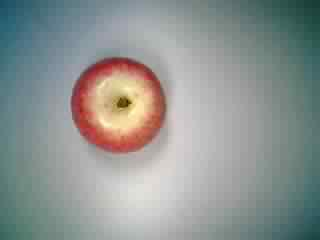apple: (65, 53, 169, 157)
